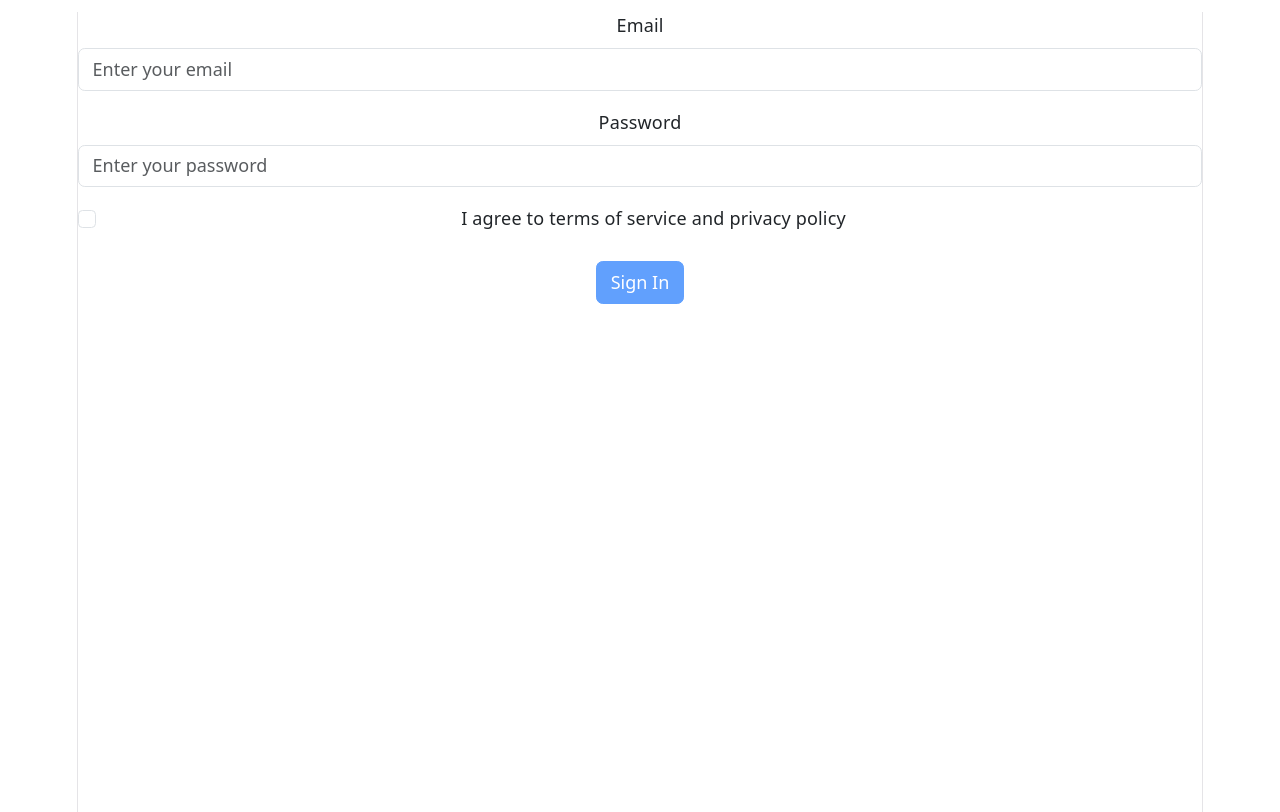
describe E2E testing › wrong email test and password test
This screenshot has width=1280, height=812.
Type "deneme" into the field with test id "input-email" at (640, 70), box [78,48,1202,91]
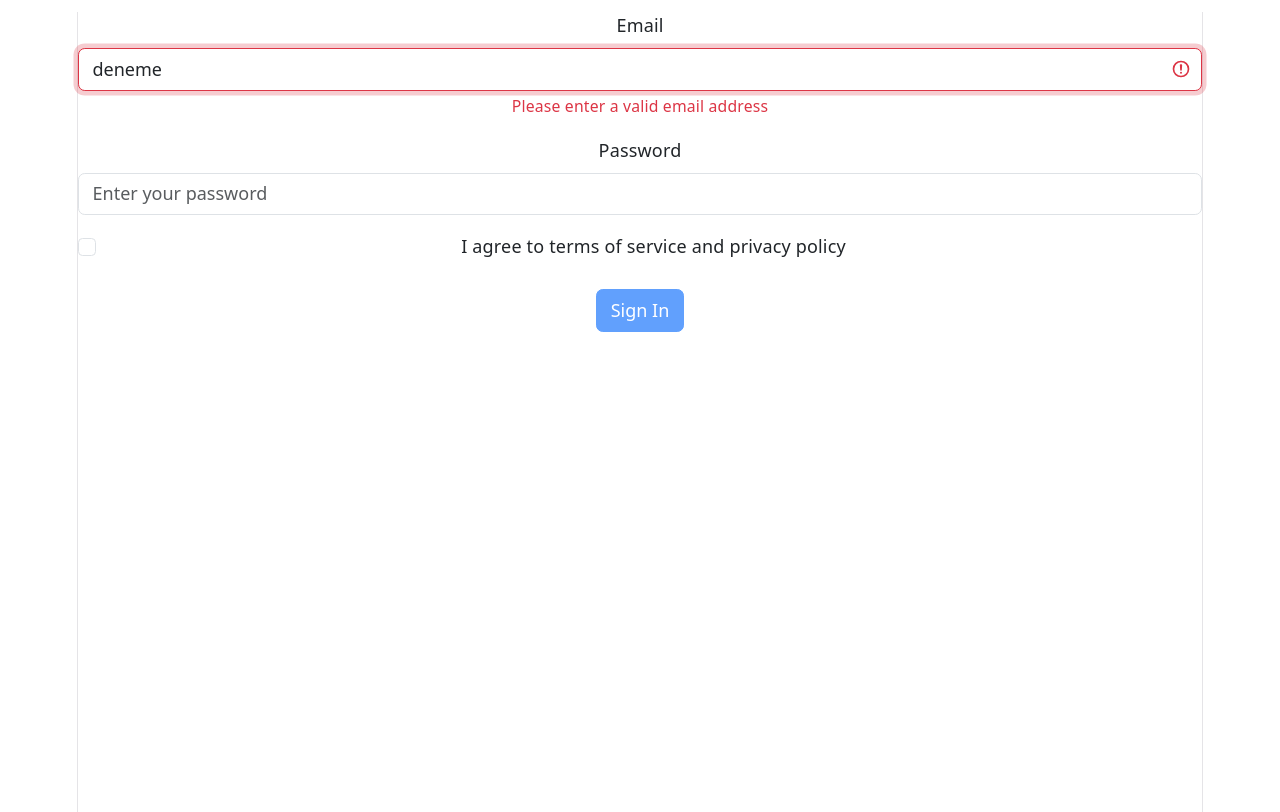
Type "1" into the password field with test id "input-password" at (640, 195), box [78,173,1202,216]
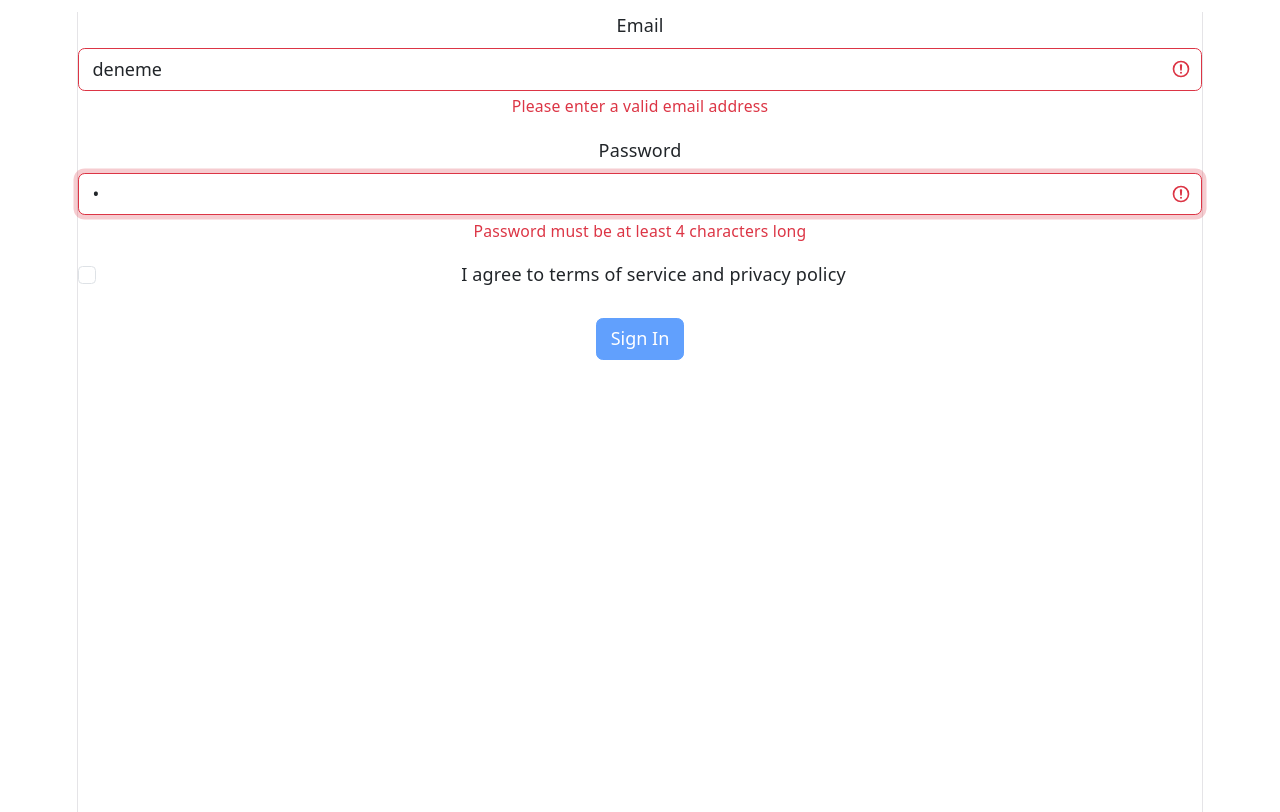
Expected: the button with test id "input-button" is disabled, [596,318,684,361]
Now the text "Password must be at least 4 characters long" is shown, box [474,220,806,242]
